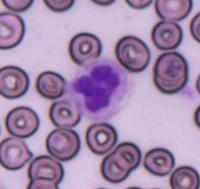N: (64, 57, 135, 124)
